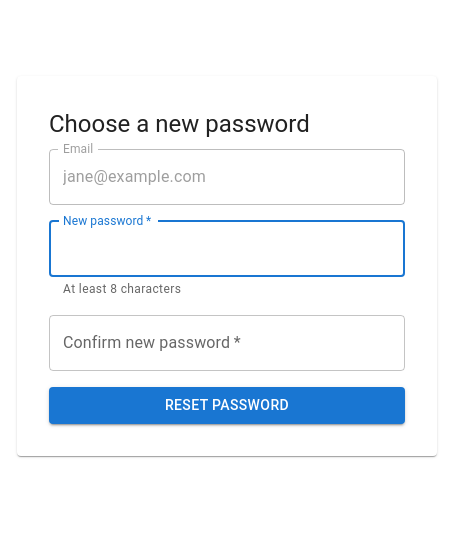
Test: ResetPasswordPage › shows the server error for an invalid token
Type "brand-new-pass" into the password field labelled "New password *". click: (227,248)
box: [49,220,405,276]
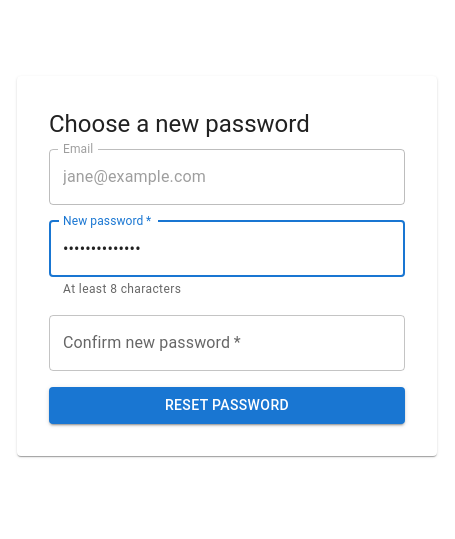
Type "brand-new-pass" into the password field labelled "Confirm new password *". click: (227,343)
box: [49,315,405,371]
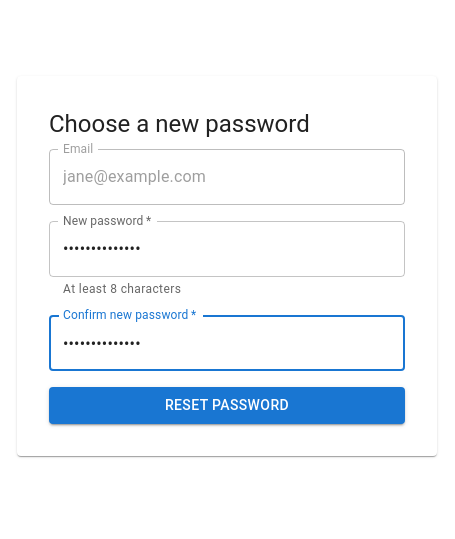
Click the button "Reset password". click: (227,406)
box: [49,387,405,424]
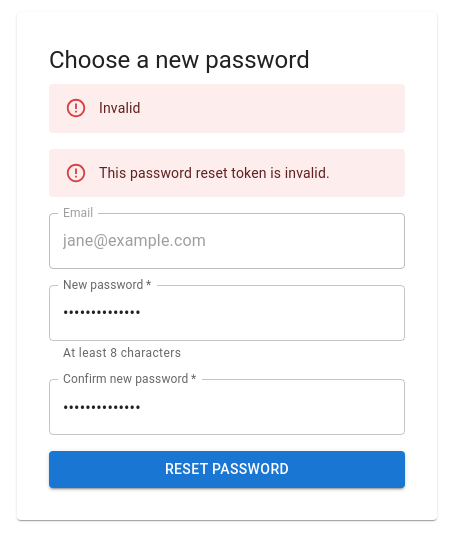
Check: the text "This password reset token is invalid." is shown, box [99,164,330,180]
